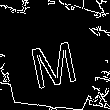M_N: (25, 29, 81, 88)
